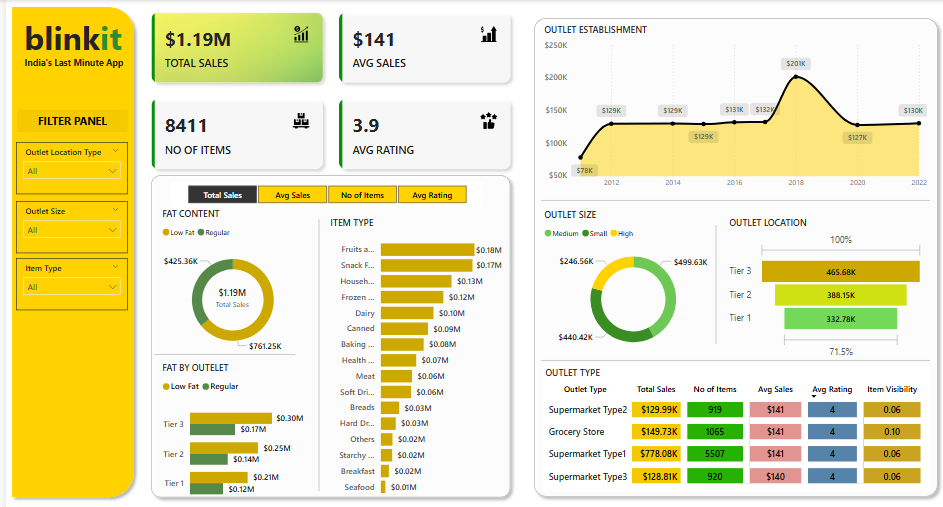

The page's visual inventory and layout, read from the dashboard file:
{"tool":"powerbi","page":{"name":"Page 1","canvas":[1400,800],"ordinal":0},"visuals":[{"type":"shape","box":[0,25.2,200,749.6],"z":0},{"type":"textbox","box":[0,42.5,200,75.6],"z":1000},{"type":"textbox","box":[17.3,102.4,166.9,31.5],"z":2000},{"type":"cardVisual","fields":{"Data":["BlinkIT Grocery Data.Total Sales","BlinkIT Grocery Data.Avg Sales","BlinkIT Grocery Data.No of Items","BlinkIT Grocery Data.Avg Rating"]},"box":[200,25.2,570.1,269.3],"z":3000},{"type":"shape","box":[207.9,275.6,554.3,499.2],"z":4000},{"type":"donutChart","title":"FAT CONTENT","fields":{"Y":["BlinkIT Grocery Data.Total Sales"],"Category":["BlinkIT Grocery Data.Item Fat Content"]},"box":[228.3,333.9,220.5,229.9],"z":5000},{"type":"slicer","fields":{"Values":["Metrics.Metrics"]},"box":[245.7,294.5,465,40],"z":6000},{"type":"cardVisual","fields":{"Data":["BlinkIT Grocery Data.Total Sales"]},"box":[266.1,425.2,144.9,86.6],"z":7000},{"type":"clusteredBarChart","title":"FAT BY OUTELET ","fields":{"Y":["BlinkIT Grocery Data.Total Sales"],"Category":["BlinkIT Grocery Data.Outlet Location Type"],"Series":["BlinkIT Grocery Data.Item Fat Content"]},"box":[228.3,563.8,220.5,222],"z":8000},{"type":"shape","box":[220.5,526,211,55.1],"z":9000},{"type":"shape","box":[395.3,351.2,143.3,406.3],"z":10000},{"type":"barChart","title":"ITEM TYPE","fields":{"Y":["BlinkIT Grocery Data.Total Sales"],"Category":["BlinkIT Grocery Data.Item Type"]},"box":[478.7,348,266.1,426.8],"z":11000},{"type":"shape","box":[779.5,42.5,620.5,732.3],"z":12000},{"type":"lineChart","title":"OUTLET ESTABLISHMENT","fields":{"Y":["BlinkIT Grocery Data.Total Sales"],"Category":["BlinkIT Grocery Data.Outlet Establishment Year"]},"box":[798.4,59.8,581.1,255.1],"z":13000},{"type":"shape","box":[798.4,296.1,581.1,55.1],"z":14000},{"type":"donutChart","title":"OUTLET SIZE","fields":{"Y":["BlinkIT Grocery Data.Total Sales"],"Category":["BlinkIT Grocery Data.Outlet Size"]},"box":[798.4,335.4,275.6,225.2],"z":15000},{"type":"shape","box":[987.4,359.1,143.3,178],"z":16000},{"type":"funnel","title":"OUTLET LOCATION","fields":{"Y":["Sum(BlinkIT Grocery Data.Sales)"],"Category":["BlinkIT Grocery Data.Outlet Location Type"]},"box":[1074,348,299.2,215.7],"z":17000},{"type":"shape","box":[798.4,533.9,581.1,55.1],"z":18000},{"type":"pivotTable","title":"OUTLET TYPE","fields":{"Rows":["BlinkIT Grocery Data.Outlet Type"],"Values":["BlinkIT Grocery Data.Total Sales","BlinkIT Grocery Data.No of Items","BlinkIT Grocery Data.Avg Sales","BlinkIT Grocery Data.Avg Rating","Avg(BlinkIT Grocery Data.Item Visibility)"]},"box":[800,571.7,579.5,185.8],"z":19000},{"type":"slicer","fields":{"Values":["BlinkIT Grocery Data.Outlet Location Type"]},"box":[15.1,236.3,167.1,78.3],"z":20000},{"type":"slicer","fields":{"Values":["BlinkIT Grocery Data.Outlet Size"]},"box":[15.1,323.7,167.1,78.3],"z":21000},{"type":"slicer","fields":{"Values":["BlinkIT Grocery Data.Item Type"]},"box":[15.1,409.5,167.1,78.3],"z":22000},{"type":"textbox","box":[15.7,187.4,165.4,33.1],"z":23000}]}

Visuals, with their boxes on the page's 1400x800 design canvas (x1, y1, x2, y2). These are canvas units, not pixel positions in the 943x507 screenshot, which may show the page scaled, cropped or inside an application window:
shape: (left=0, top=25, right=200, bottom=775)
textbox: (left=0, top=42, right=200, bottom=118)
textbox: (left=17, top=102, right=184, bottom=134)
cardVisual - BlinkIT Grocery Data.Total Sales x BlinkIT Grocery Data.Avg Sales: (left=200, top=25, right=770, bottom=294)
shape: (left=208, top=276, right=762, bottom=775)
"FAT CONTENT" donutChart: (left=228, top=334, right=449, bottom=564)
slicer - Metrics.Metrics: (left=246, top=294, right=711, bottom=334)
cardVisual - BlinkIT Grocery Data.Total Sales: (left=266, top=425, right=411, bottom=512)
"FAT BY OUTELET " clusteredBarChart: (left=228, top=564, right=449, bottom=786)
shape: (left=220, top=526, right=432, bottom=581)
shape: (left=395, top=351, right=539, bottom=758)
"ITEM TYPE" barChart: (left=479, top=348, right=745, bottom=775)
shape: (left=780, top=42, right=1400, bottom=775)
"OUTLET ESTABLISHMENT" lineChart: (left=798, top=60, right=1380, bottom=315)
shape: (left=798, top=296, right=1380, bottom=351)
"OUTLET SIZE" donutChart: (left=798, top=335, right=1074, bottom=561)
shape: (left=987, top=359, right=1131, bottom=537)
"OUTLET LOCATION" funnel: (left=1074, top=348, right=1373, bottom=564)
shape: (left=798, top=534, right=1380, bottom=589)
"OUTLET TYPE" pivotTable: (left=800, top=572, right=1380, bottom=758)
slicer - BlinkIT Grocery Data.Outlet Location Type: (left=15, top=236, right=182, bottom=315)
slicer - BlinkIT Grocery Data.Outlet Size: (left=15, top=324, right=182, bottom=402)
slicer - BlinkIT Grocery Data.Item Type: (left=15, top=410, right=182, bottom=488)
textbox: (left=16, top=187, right=181, bottom=220)
